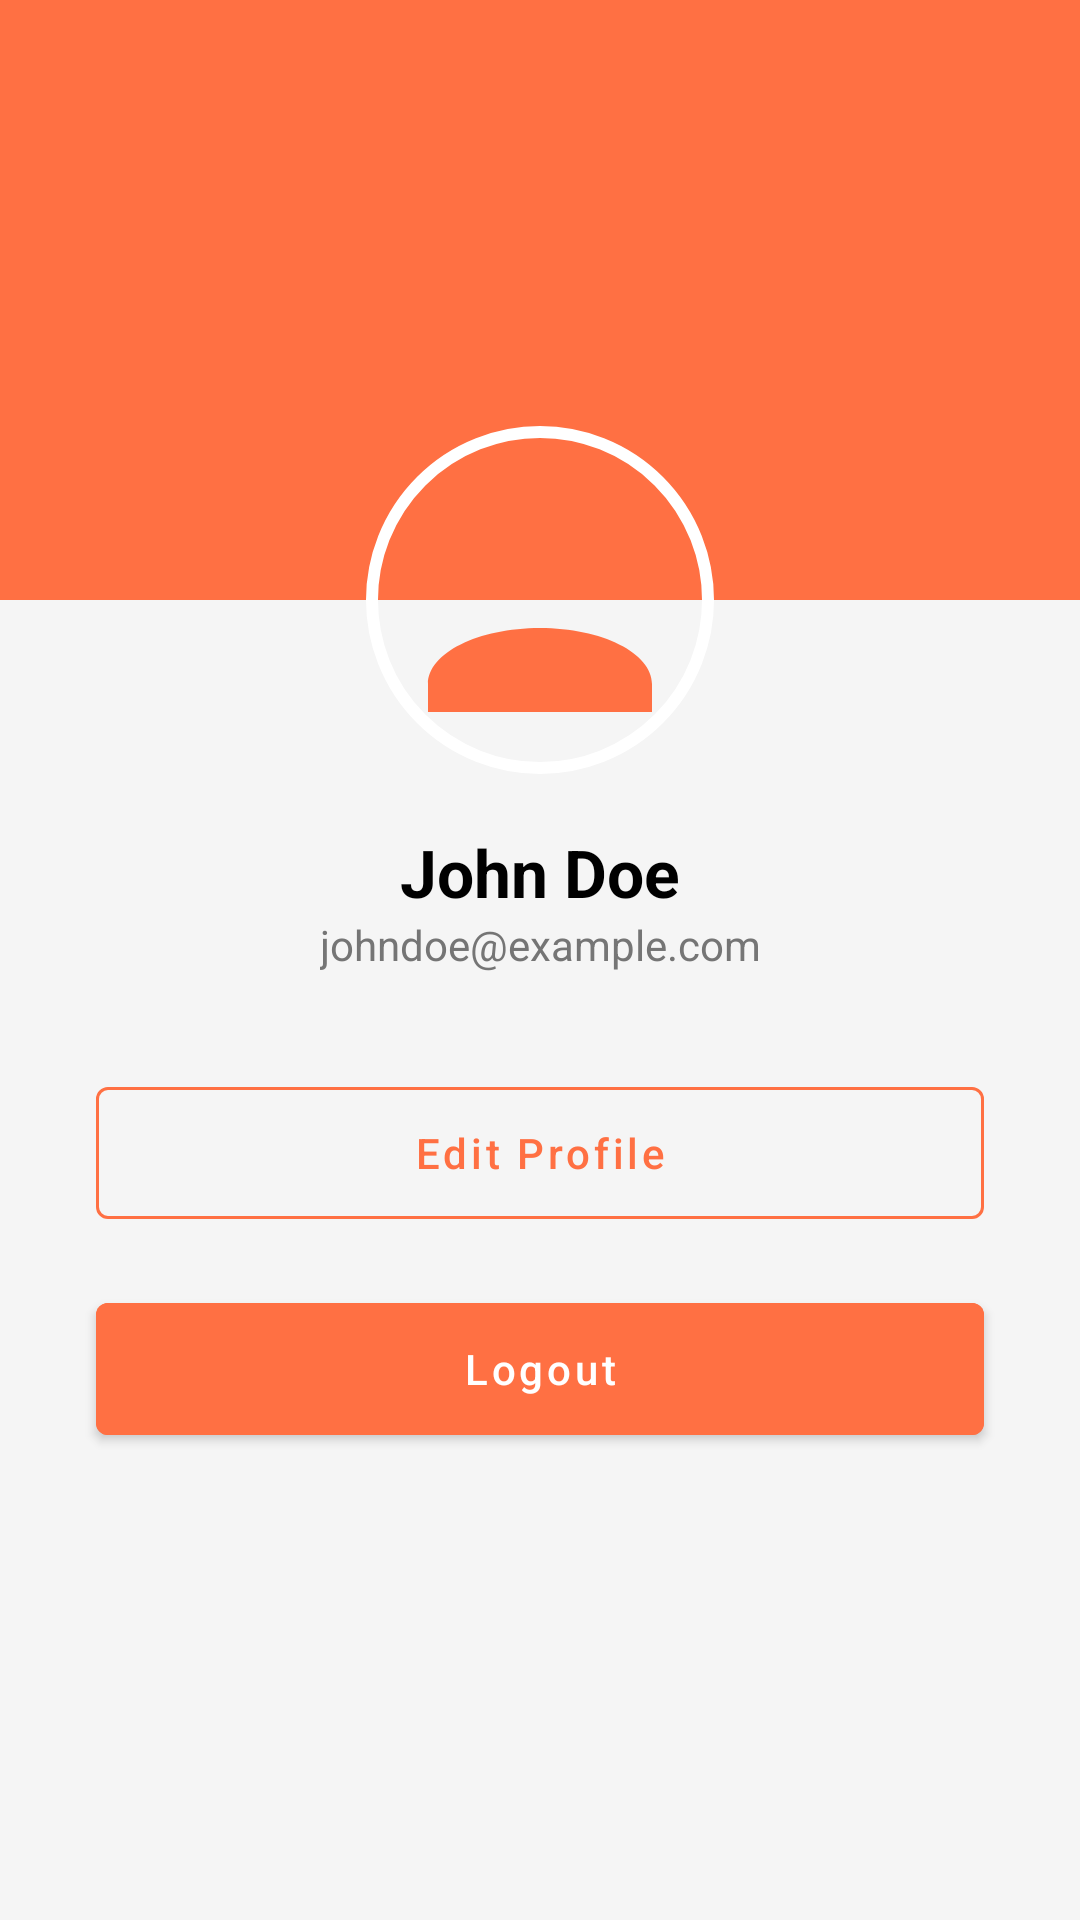

Named icons in this screenshot (1080x1920) and their centers, (x,y):
user: (540,600)
